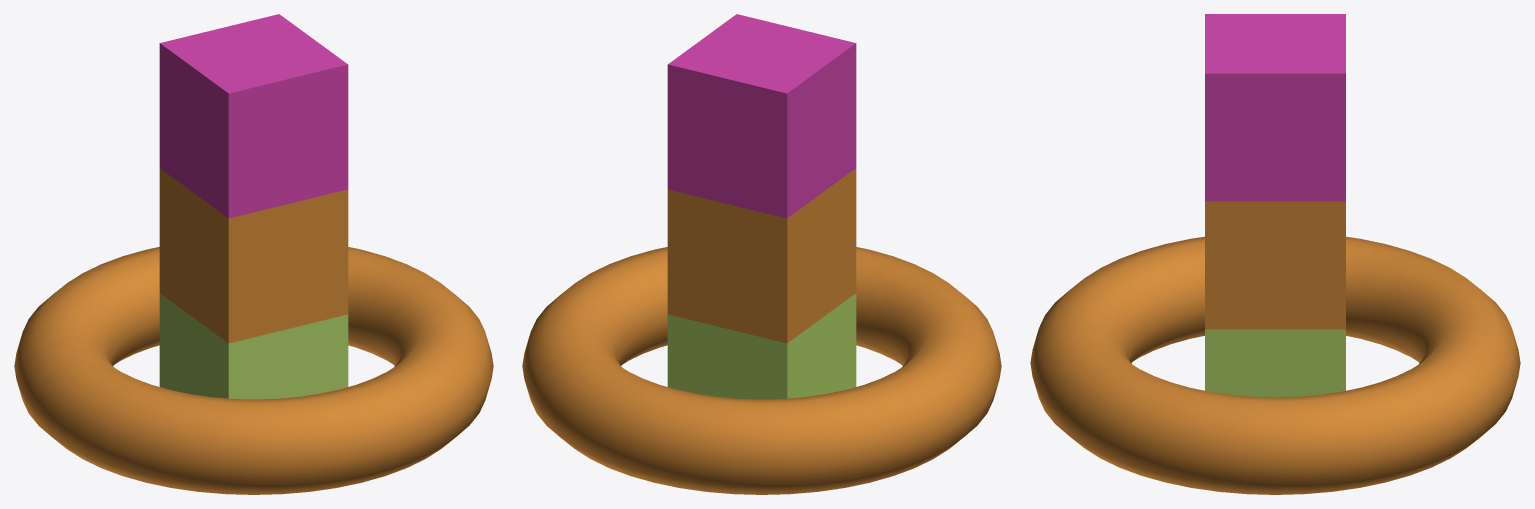
Rendered from skeltest.dae.
3 renders of one model, left to right at view 1: azimuth 30°, elevation 25°; view 2: azimuth 150°, elevation 25°; view 3: azimuth 270°, elevation 25°, orthographic. The views are drawn at different scales.
Visible parts, largest first — view 1: Cube; view 2: Cube; view 3: Cube.
Part boxes in pixels (box(x1,y1,x2,y2)): Cube: box(14, 14, 493, 494); Cube: box(522, 14, 1001, 494); Cube: box(1030, 14, 1520, 494).
Bounding box in the file's own units: 6.95 × 6.95 × 6.
